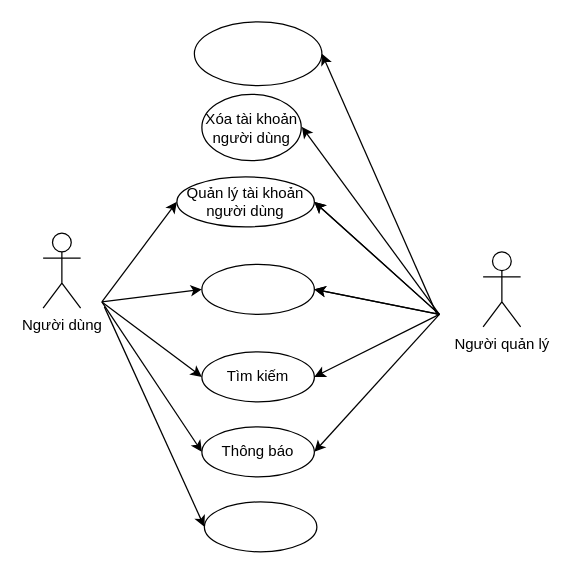
The diagram is 570 pixels wide and 574 high, and some of its shapes have lost their labels. The shapes that lost their labels are listed below. From the top down, each one's centre as x and y in pixels, then its label:
At (x=257, y=53): "Khóa tài khoản người dùng".
At (x=257, y=288): "Chia sẽ nội dung".
At (x=260, y=526): "Đăng xuất".
